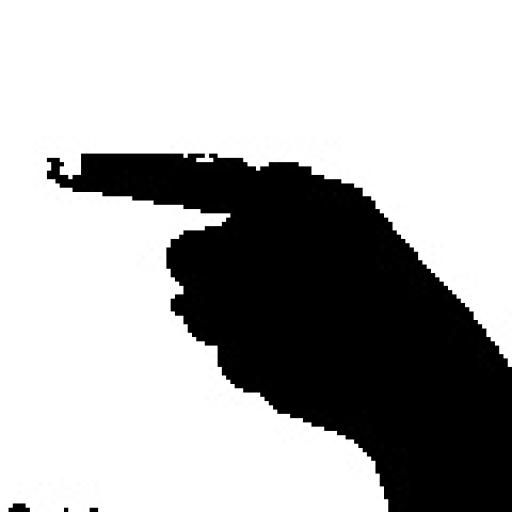index_left: (42, 145, 512, 375)
